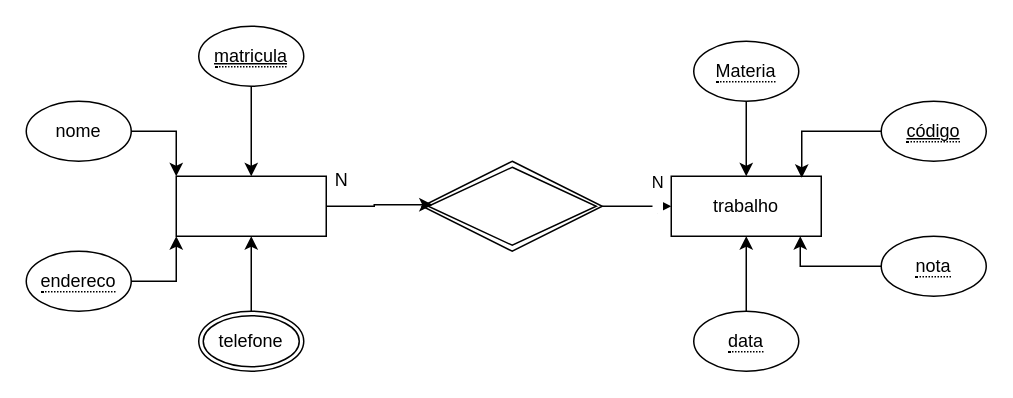
This 1013x398 diagram has some shape labels left out. Each missing label, with the box of its shape:
alunos: (175, 175, 326, 236)
realiza: (421, 160, 602, 251)
